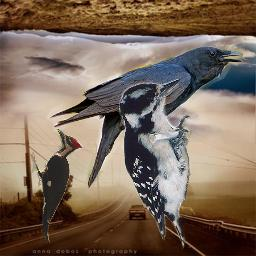Crow: (47, 46, 243, 189)
Woodpecker: (119, 79, 193, 249), (30, 128, 83, 243)
